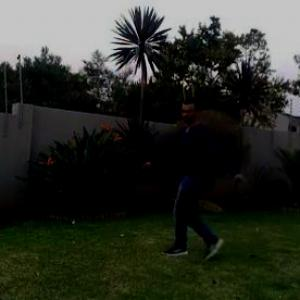land: (136, 82, 257, 282)
